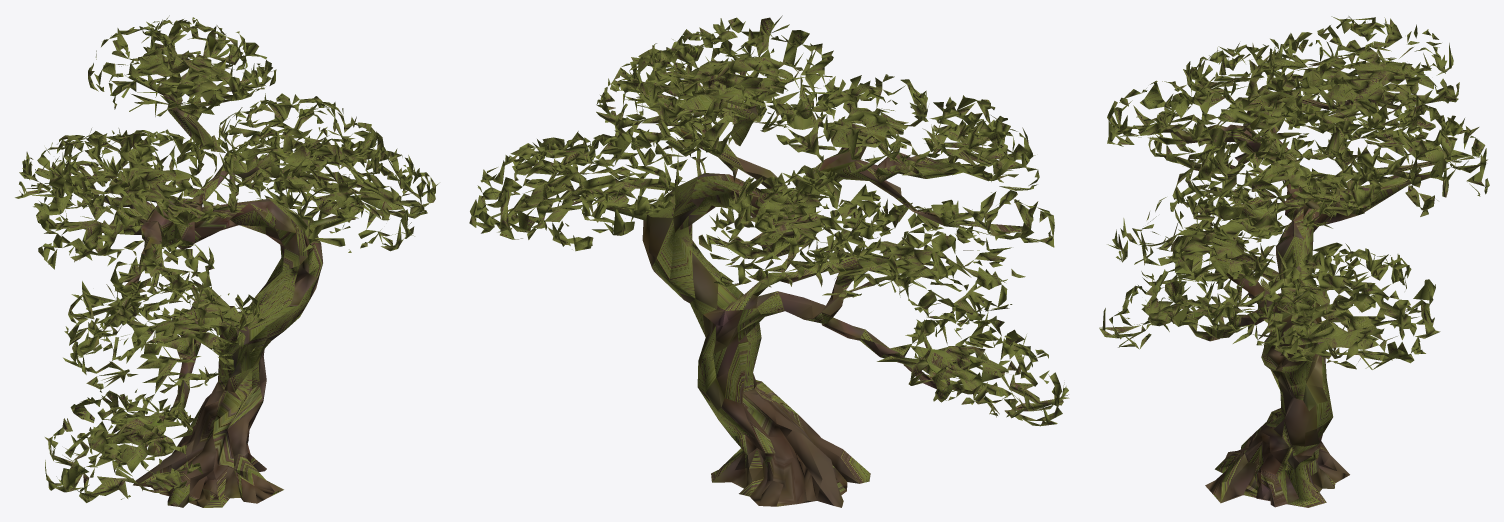
The model's file is lib_bonsai.lod.glb.
3 renders of one model, left to right at view 1: azimuth 30°, elevation 25°; view 2: azimuth 150°, elevation 25°; view 3: azimuth 270°, elevation 25°, orthographic. The views are drawn at different scales.
Visible parts, largest first — view 1: output_unwrapped; view 2: output_unwrapped; view 3: output_unwrapped.
Part boxes in pixels (box(x1,y1,x2,y2)): output_unwrapped: box(15, 15, 438, 507); output_unwrapped: box(469, 15, 1069, 507); output_unwrapped: box(1099, 16, 1489, 507).
Bounding box in the file's own units: 1.95 × 1.8 × 1.4.
1 material, 1 textured.
